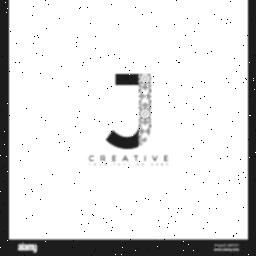j: (94, 56, 164, 154)
